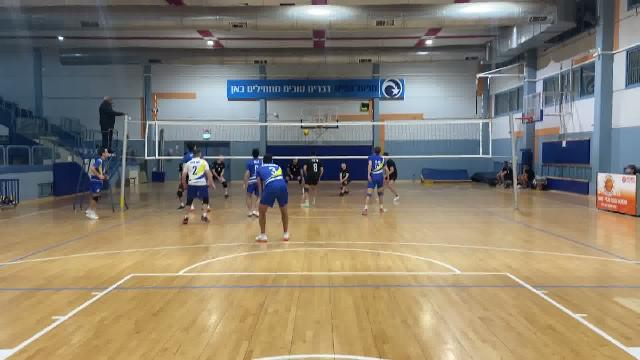ball: (301, 128, 311, 139)
